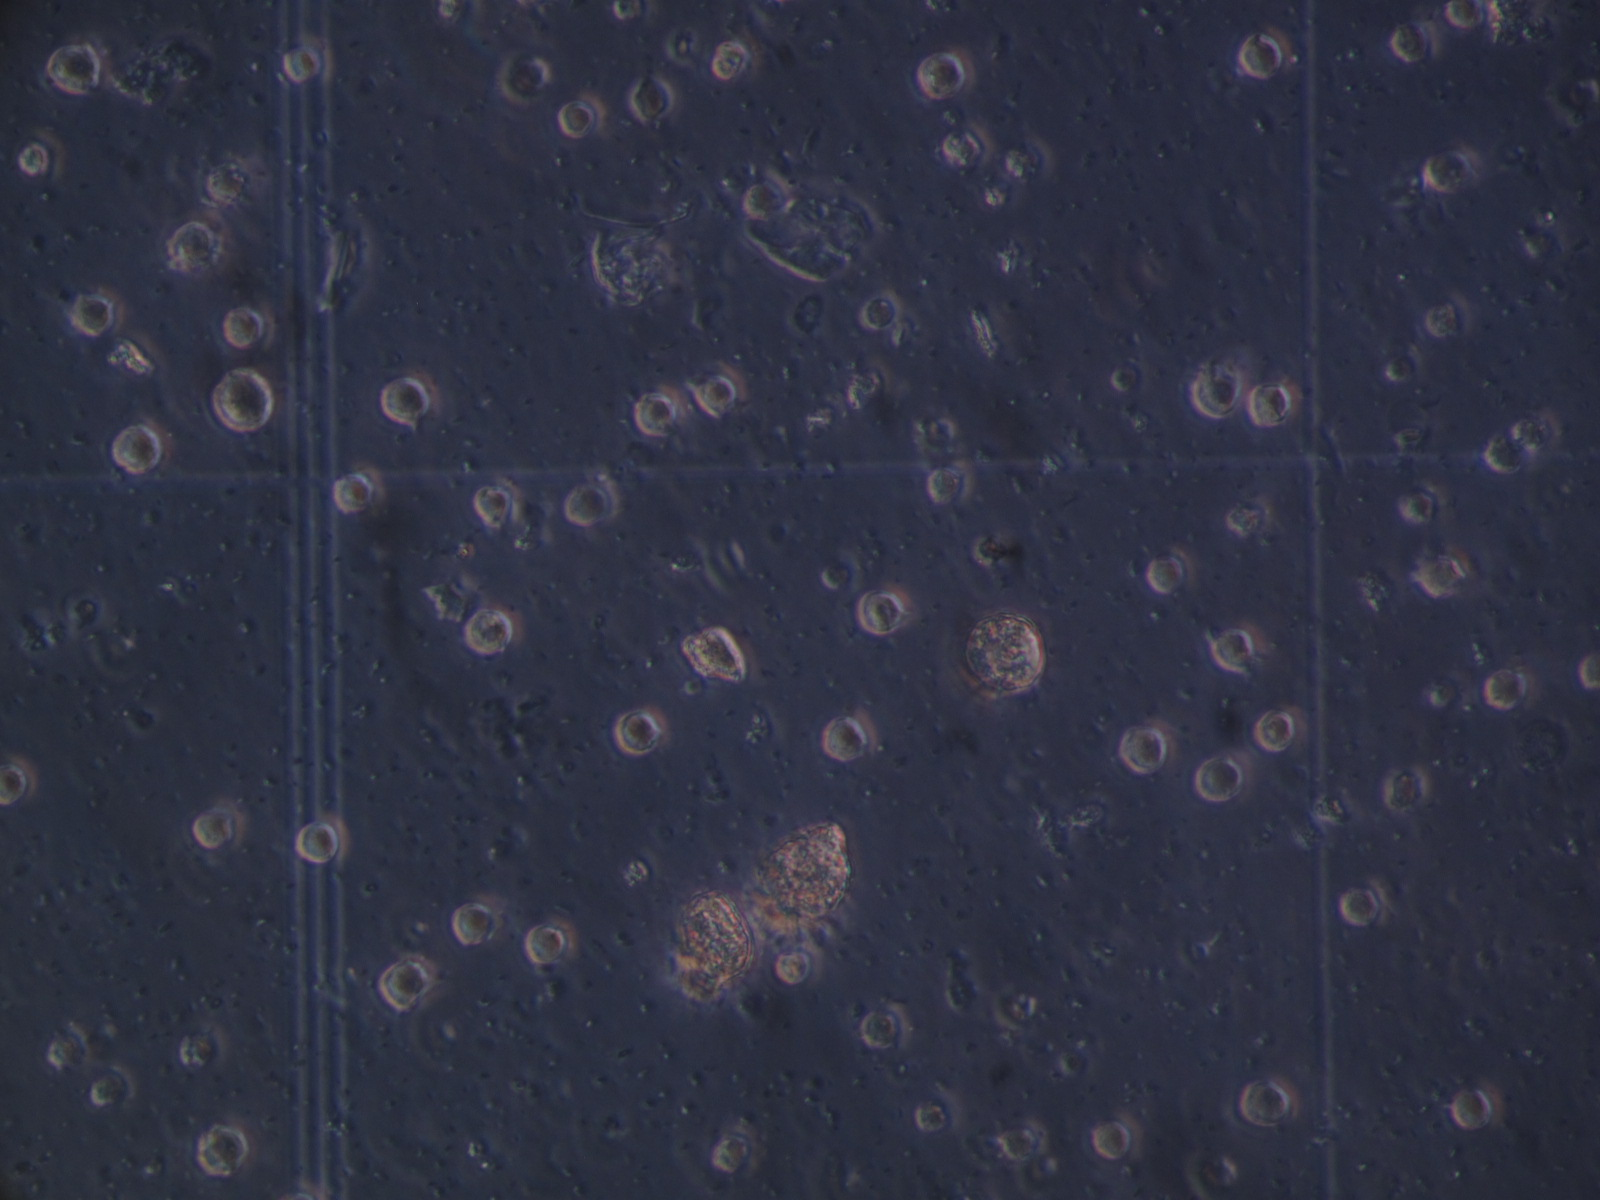hemo: (682, 625, 758, 684), (213, 368, 276, 431), (377, 952, 433, 1012), (917, 47, 975, 103), (194, 1121, 249, 1177), (821, 708, 878, 763), (496, 52, 551, 108), (1197, 749, 1254, 802), (1241, 23, 1293, 81), (112, 421, 165, 476), (281, 34, 336, 86), (1180, 1150, 1240, 1197), (48, 42, 101, 95), (564, 474, 619, 526), (1241, 1079, 1298, 1128), (858, 585, 913, 634), (1424, 146, 1480, 194), (296, 814, 348, 866), (614, 705, 666, 755), (472, 475, 522, 529), (525, 918, 577, 968), (380, 376, 430, 429), (1002, 132, 1054, 182), (333, 465, 387, 513), (1119, 724, 1168, 775), (941, 124, 993, 173), (711, 1124, 762, 1174), (693, 369, 746, 417), (18, 127, 63, 183), (168, 221, 218, 270), (449, 899, 496, 950), (1193, 366, 1241, 417), (224, 303, 276, 350), (635, 384, 682, 437), (1091, 1114, 1143, 1161), (71, 291, 123, 337), (202, 158, 249, 205), (864, 1001, 911, 1050), (1451, 1087, 1504, 1129), (191, 805, 244, 848), (466, 608, 514, 654), (743, 168, 790, 216), (91, 1064, 136, 1113), (179, 1026, 228, 1071), (1416, 555, 1466, 599), (1391, 21, 1441, 66), (1424, 294, 1471, 339), (911, 411, 961, 454), (1400, 482, 1449, 524), (1342, 882, 1387, 926), (1211, 628, 1254, 674), (1000, 1118, 1047, 1161), (929, 464, 974, 507), (775, 945, 821, 987), (916, 1090, 959, 1134), (1247, 383, 1291, 426), (562, 95, 605, 139), (1, 753, 37, 805), (632, 76, 674, 120), (1385, 766, 1426, 809), (1485, 669, 1527, 712), (1256, 708, 1296, 751), (857, 291, 901, 329), (1228, 499, 1272, 537), (1511, 416, 1552, 454), (1483, 434, 1522, 473), (711, 39, 747, 79), (1148, 556, 1187, 592), (1112, 359, 1146, 400), (1446, 1, 1488, 32), (1580, 653, 1600, 687)
